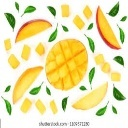mango: (46, 38, 88, 91)
